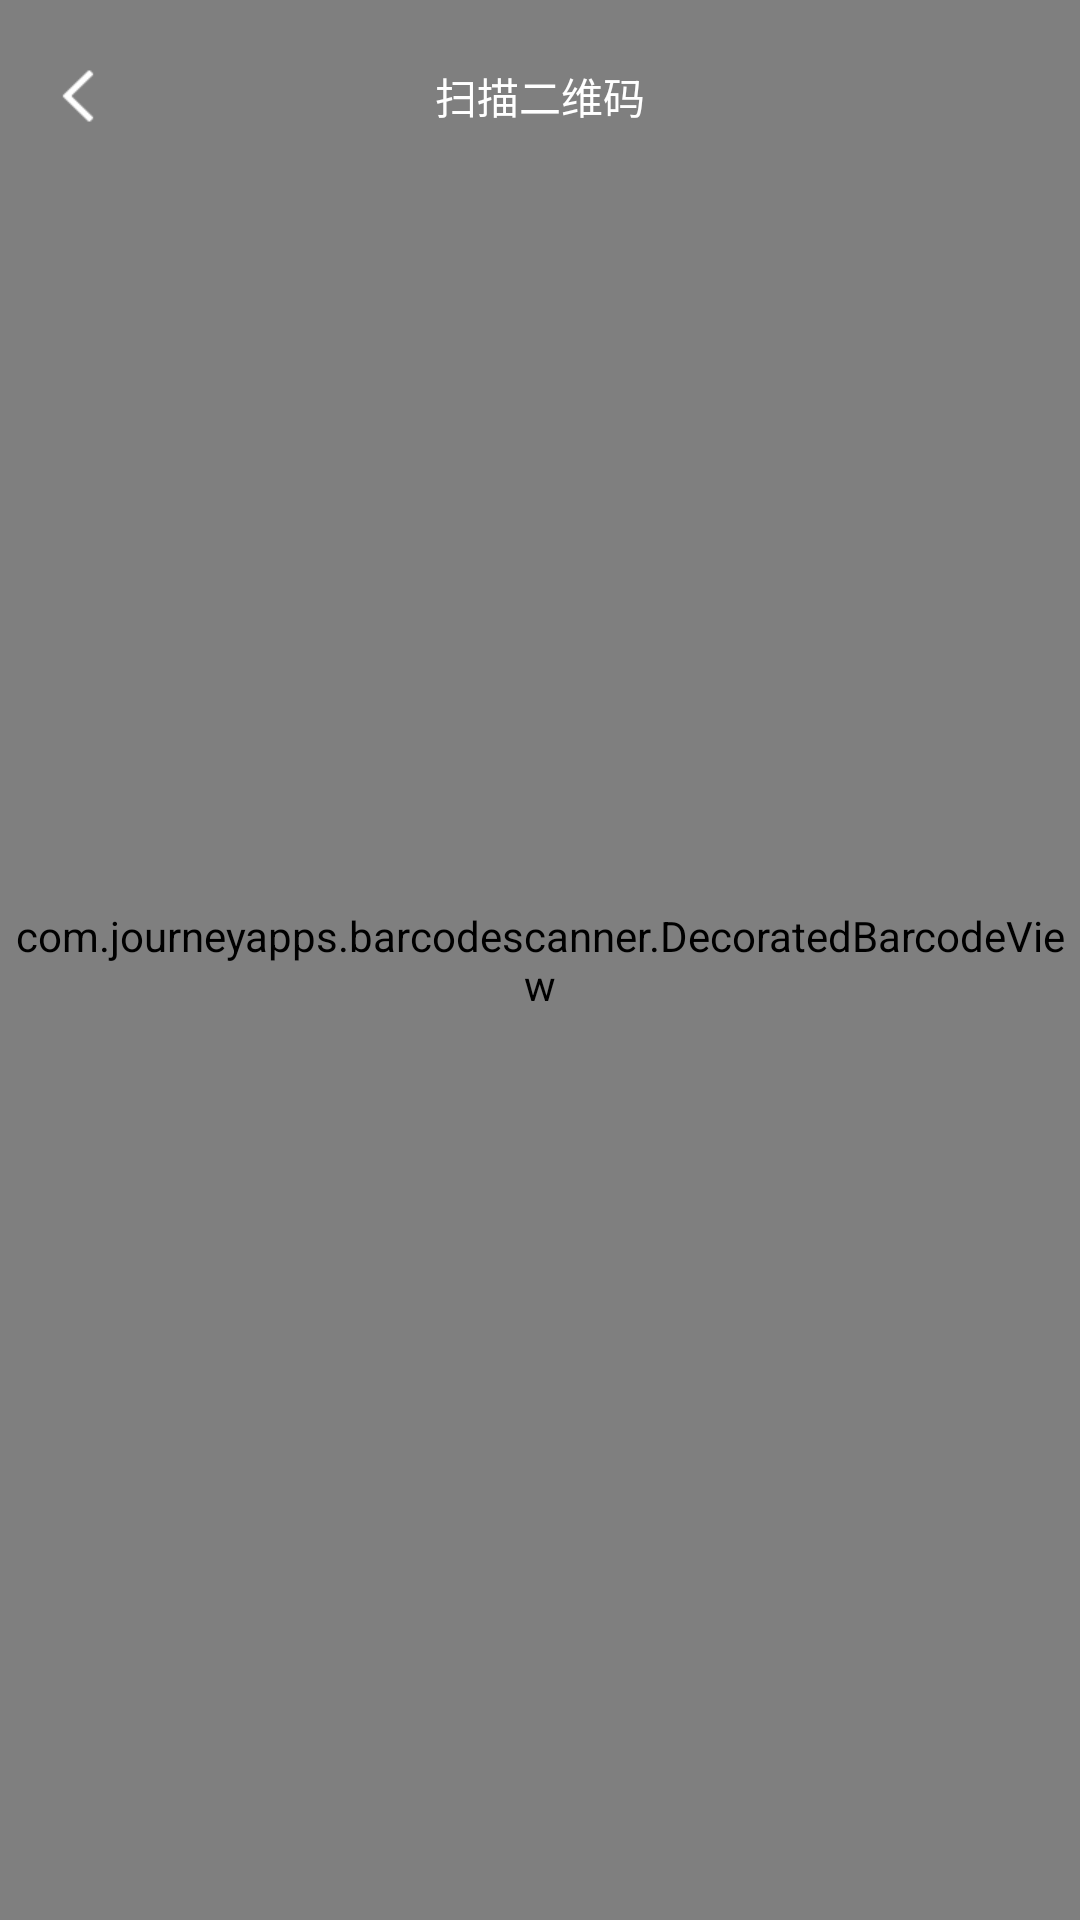

Screen size 1080*1920. Icon name, then its box in pixels as bbox=[x1, y1, x2, y2]:
back: bbox=[63, 70, 93, 122]
